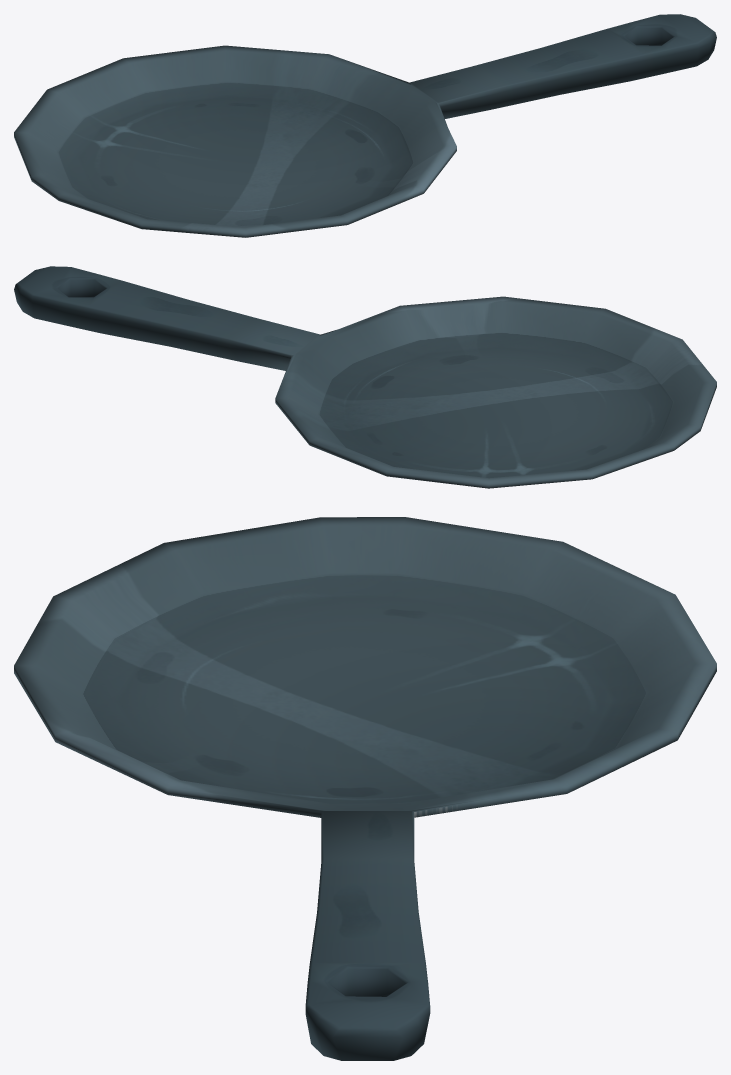
The model's file is PanSkillet.fbx.
3 renders of one model, top to bottom at view 1: azimuth 30°, elevation 25°; view 2: azimuth 150°, elevation 25°; view 3: azimuth 270°, elevation 25°, orthographic. The views are drawn at different scales.
Visible parts, largest first — view 1: PanSkillet; view 2: PanSkillet; view 3: PanSkillet.
Part boxes in pixels (x1,y1,x2,y2): PanSkillet: (14,14,716,237); PanSkillet: (14,266,716,488); PanSkillet: (14,517,716,1060).
Size of the model in its own units: 111 by 4.45 by 64.55.
